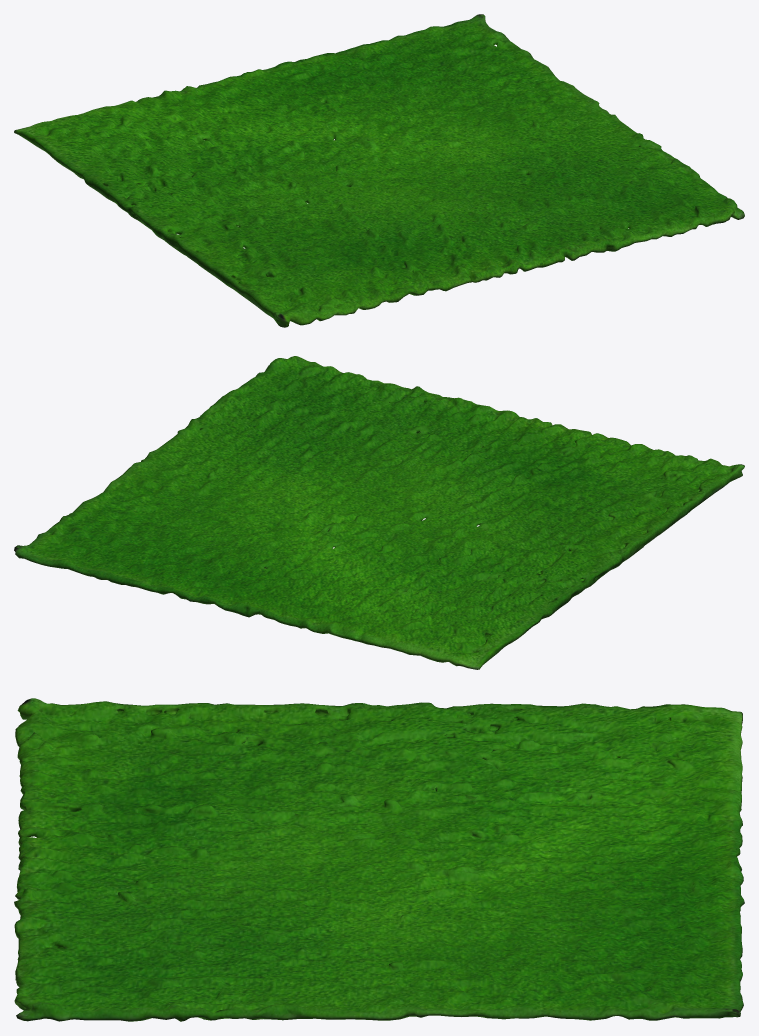
Rendered from Lush_Meadow_0905075734.glb.
The picture shows the model from 3 angles, top to bottom: view 1: azimuth 30°, elevation 25°; view 2: azimuth 150°, elevation 25°; view 3: azimuth 270°, elevation 25°; orthographic projection. The views are drawn at different scales.
Bounding box in the file's own units: 1.98 × 0.0665 × 1.99.
1 material, 1 textured.
